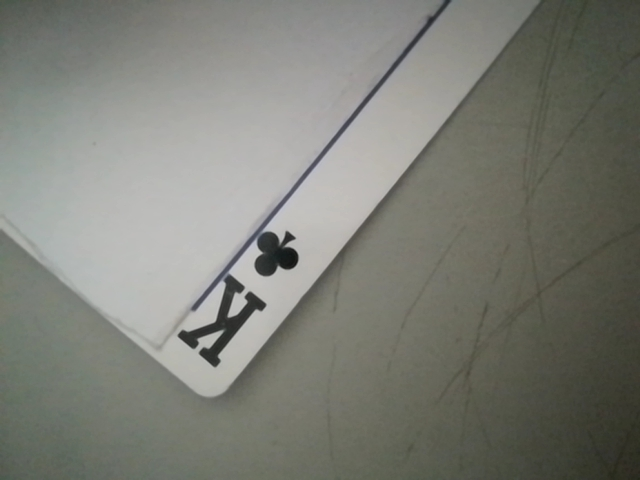mh k: (173, 223, 309, 382)
